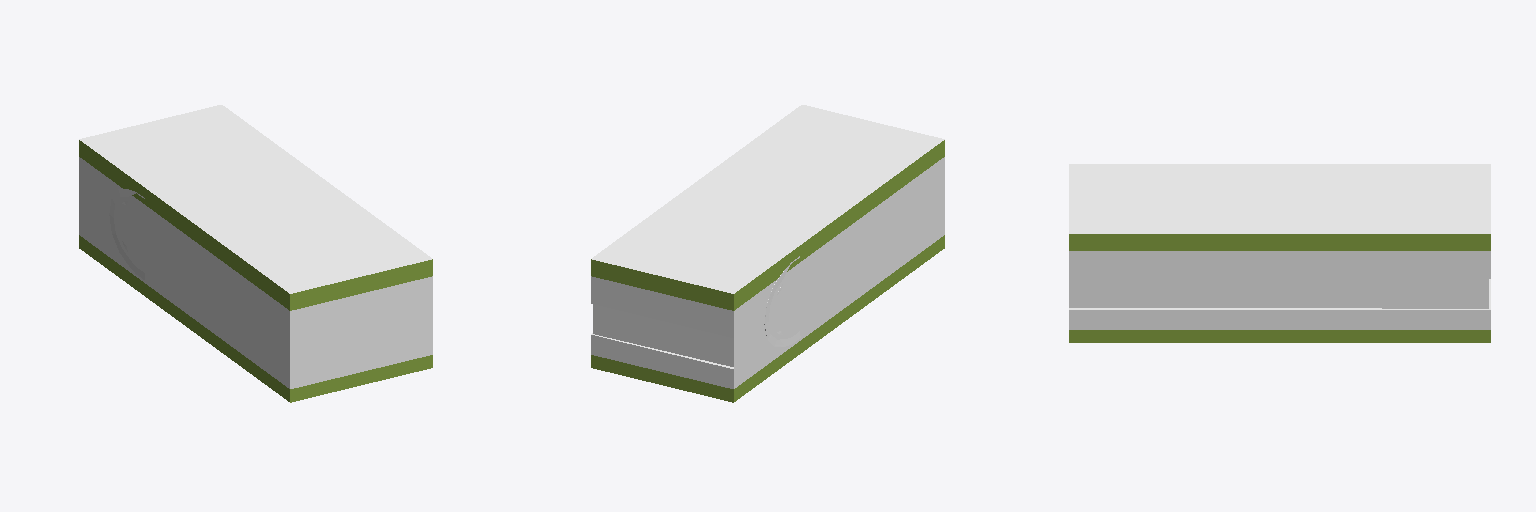
Rendered from room.obj.
3 renders of one model, left to right at view 1: azimuth 30°, elevation 25°; view 2: azimuth 150°, elevation 25°; view 3: azimuth 270°, elevation 25°, orthographic.
Bounding box in the file's own units: 0.8499 × 0.6426 × 2.17.